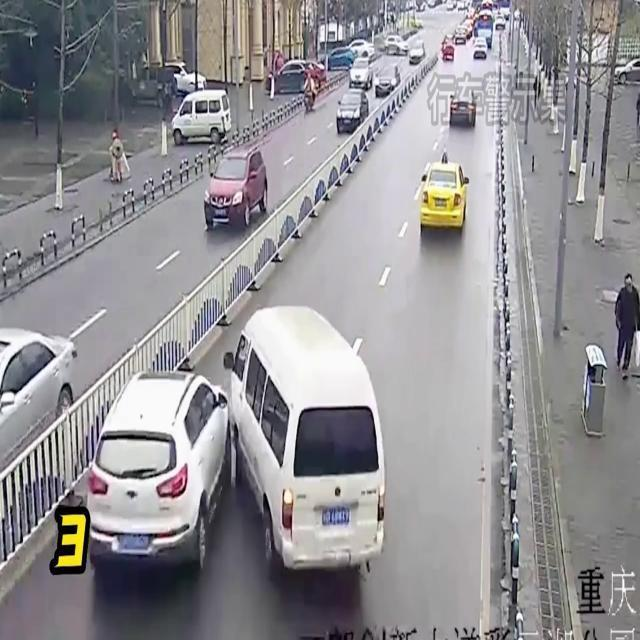car Accident: (46, 272, 388, 596)
